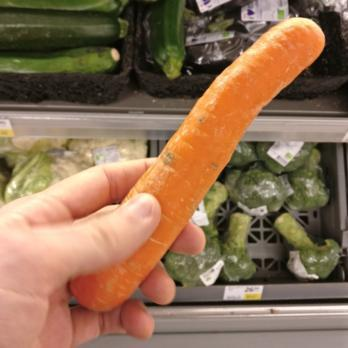Carrot: (69, 16, 324, 310)
